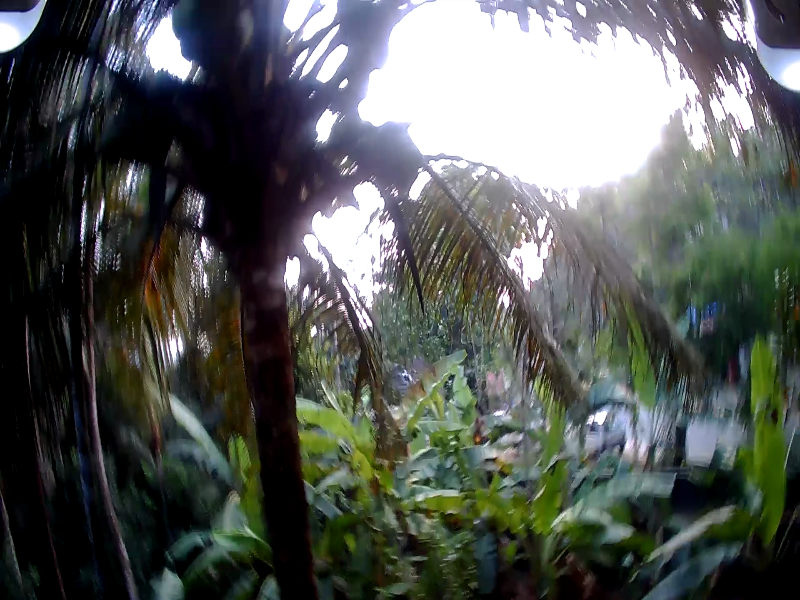coconut: (173, 4, 259, 66), (376, 125, 422, 188)
